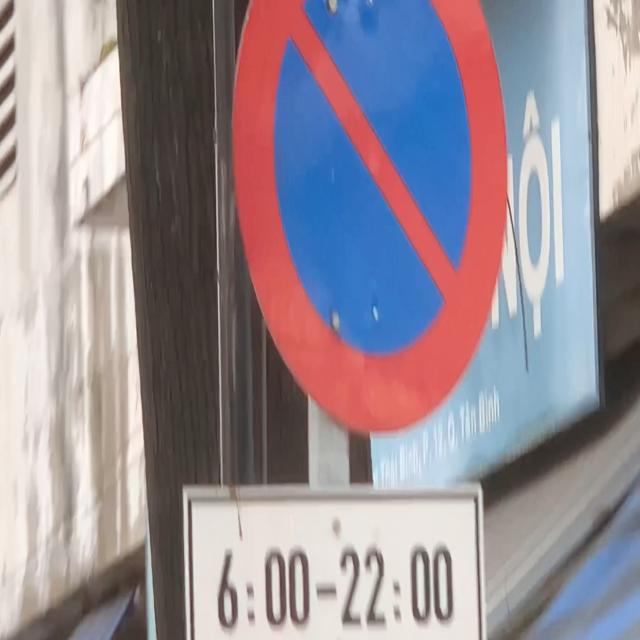Cam do: (231, 0, 508, 435)
